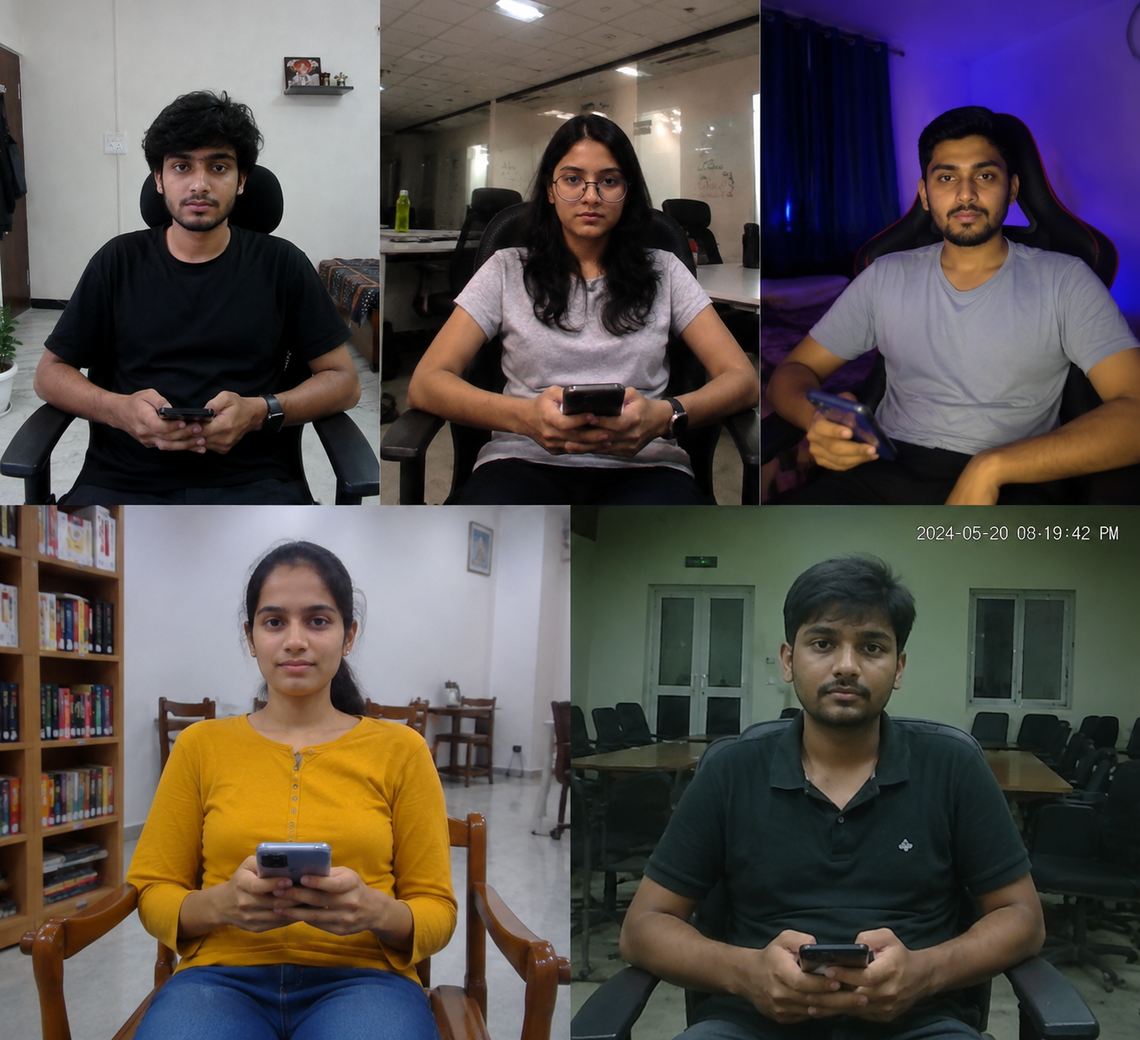Focused: (701, 522, 971, 1000), (61, 50, 327, 471), (167, 531, 422, 920), (839, 76, 1072, 456), (479, 68, 660, 473)
